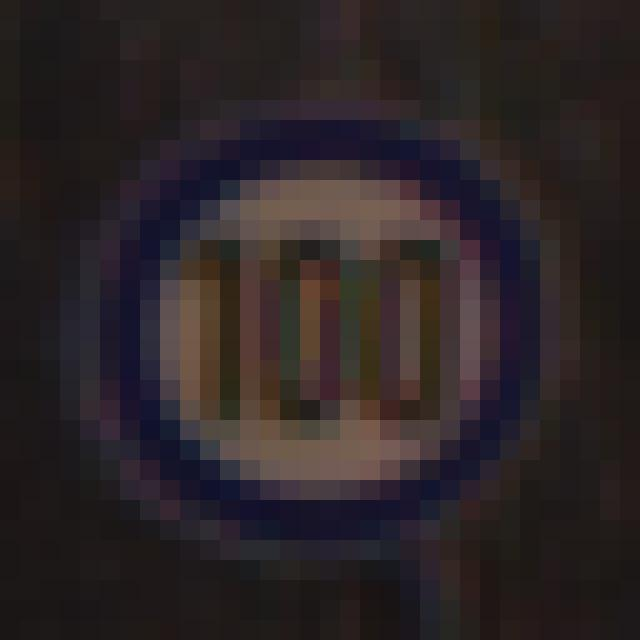SPEED LIMIT 100: (65, 103, 557, 559)
